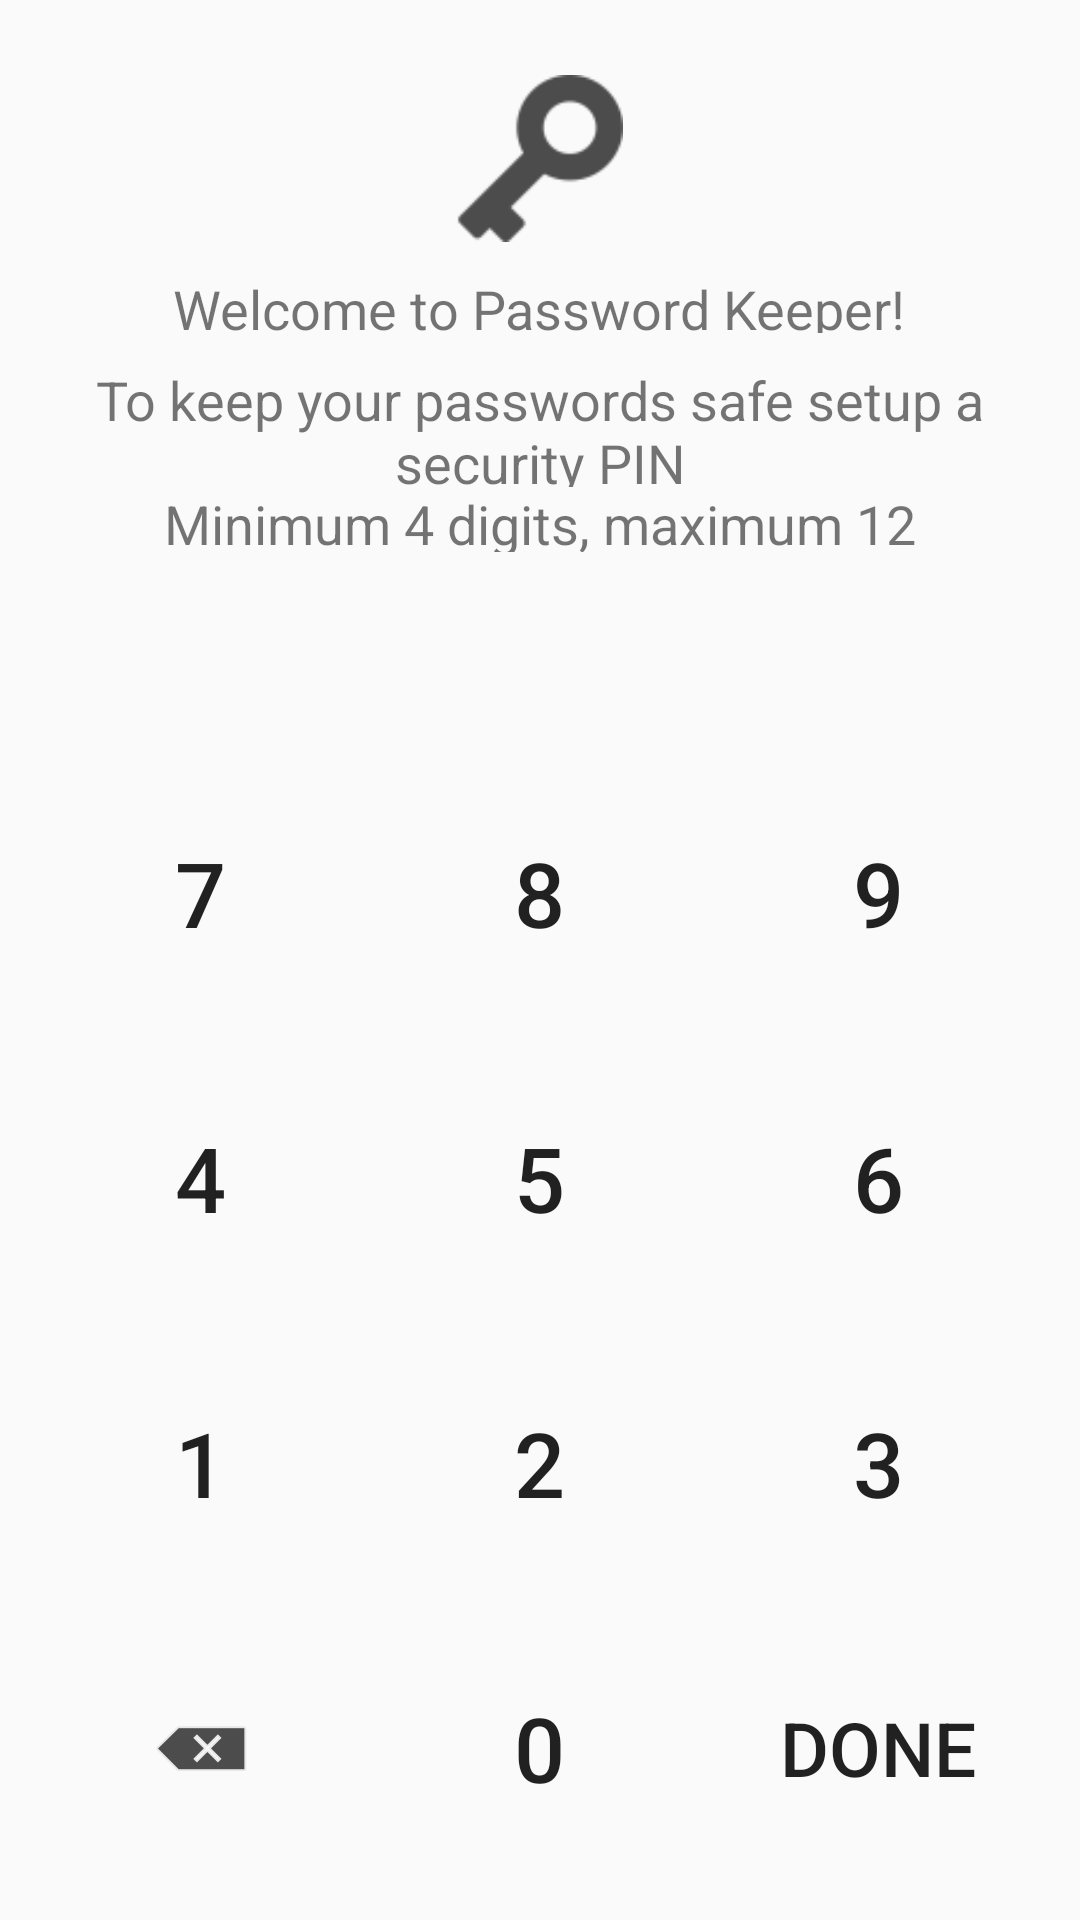

Icons on this 1080 x 1920 Android screen, each with its box as Rect(x1, y1, x2, y2):
delete: Rect(158, 1728, 245, 1770)
